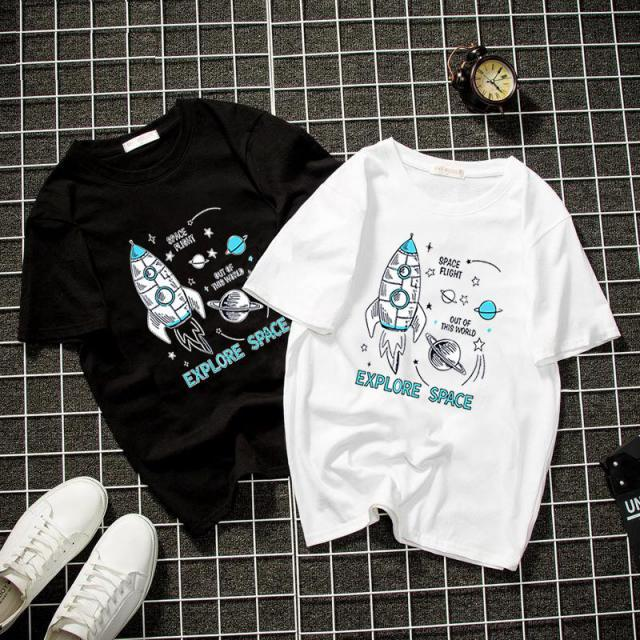Shirt: (245, 117, 622, 570), (21, 97, 336, 533)
